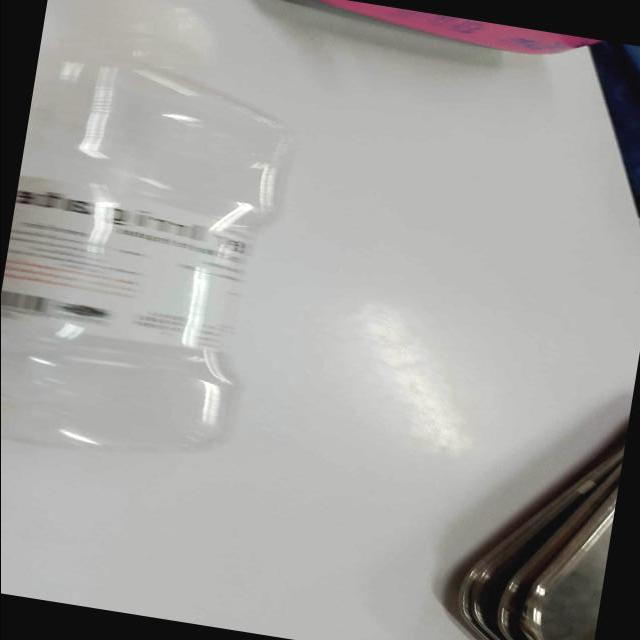General: (2, 3, 639, 639), (2, 52, 295, 457)
Sharps: (455, 443, 625, 640), (320, 1, 640, 57)
